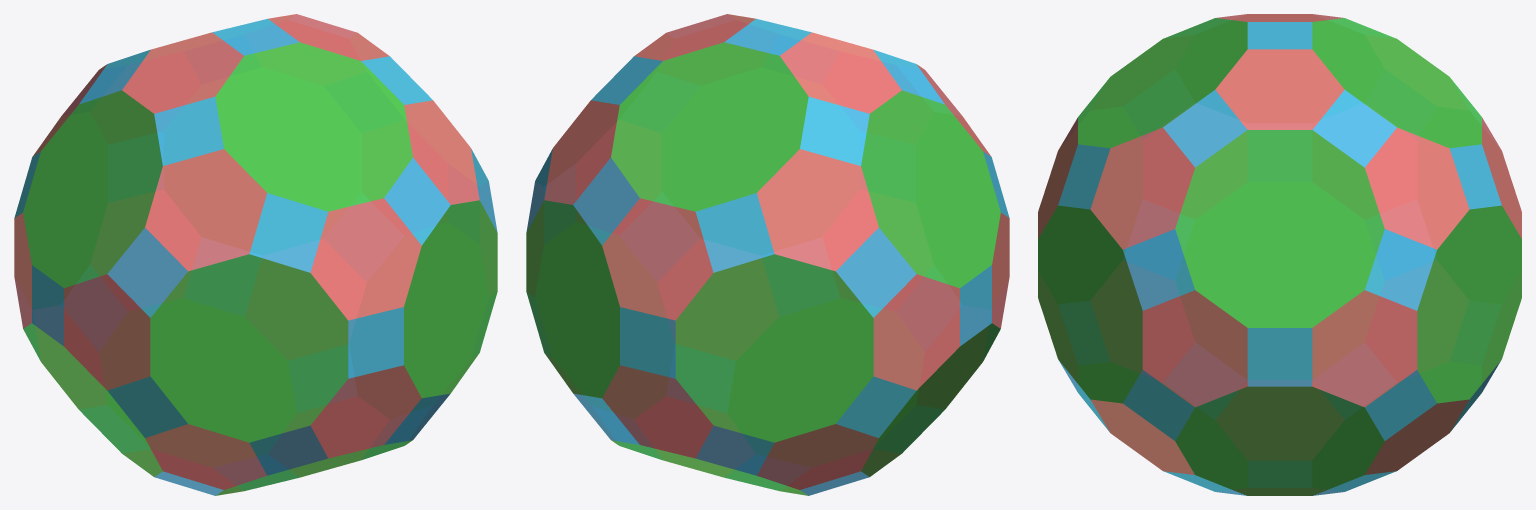
File: TruncatedIcosidodecahedron.obj
3 views of the same model, side by side, from view 1: azimuth 30°, elevation 25°; view 2: azimuth 150°, elevation 25°; view 3: azimuth 270°, elevation 25° (orthographic).
Size of the model in its own units: 7.47 by 7.47 by 7.47.
